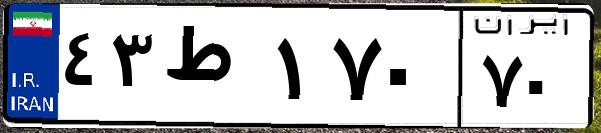0: (385, 28, 445, 110), (525, 38, 570, 115)
1: (270, 28, 330, 110)
3: (110, 28, 158, 98)
4: (57, 26, 110, 100)
7: (330, 28, 385, 110), (475, 38, 525, 113)
ط: (158, 20, 270, 120)
